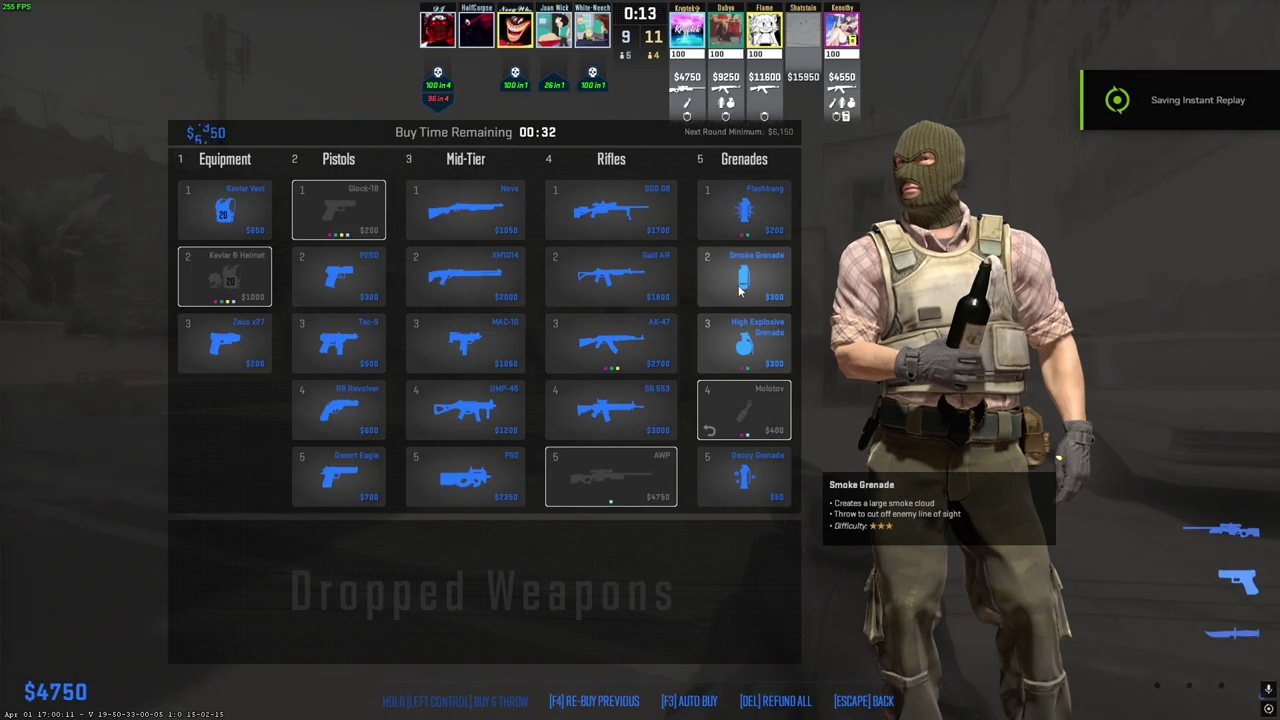Terrorist: (847, 122, 1076, 720)
